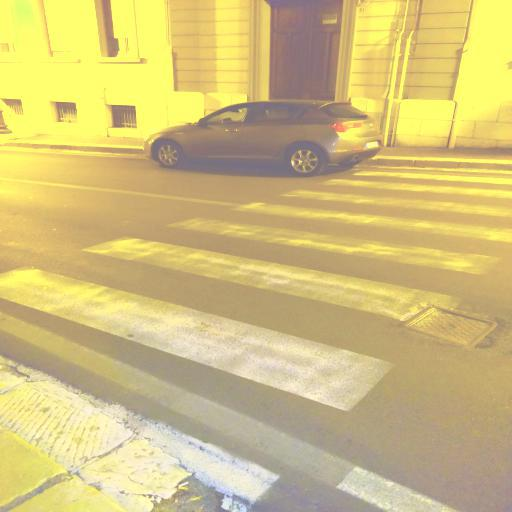crosswalk: (70, 208, 506, 330)
